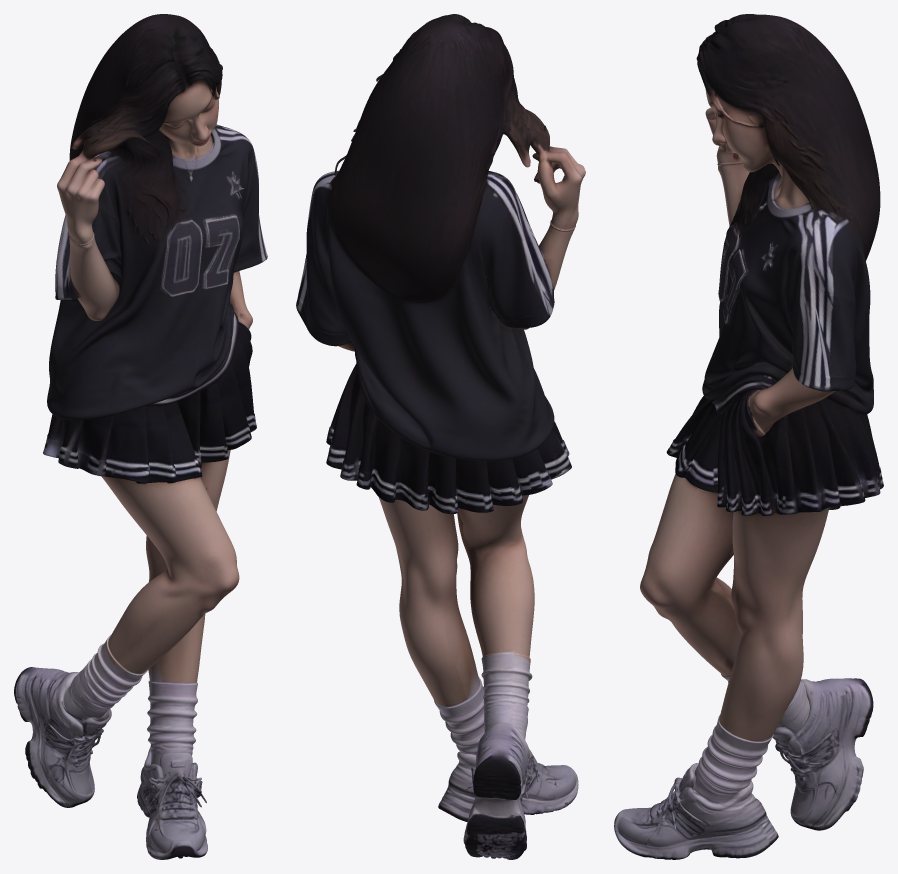
3 views of the same model, side by side, from view 1: azimuth 30°, elevation 25°; view 2: azimuth 150°, elevation 25°; view 3: azimuth 270°, elevation 25° (orthographic). The views are drawn at different scales.
Size of the model in its own units: 0.3744 by 1.16 by 0.3348.
1 material, 1 textured.
